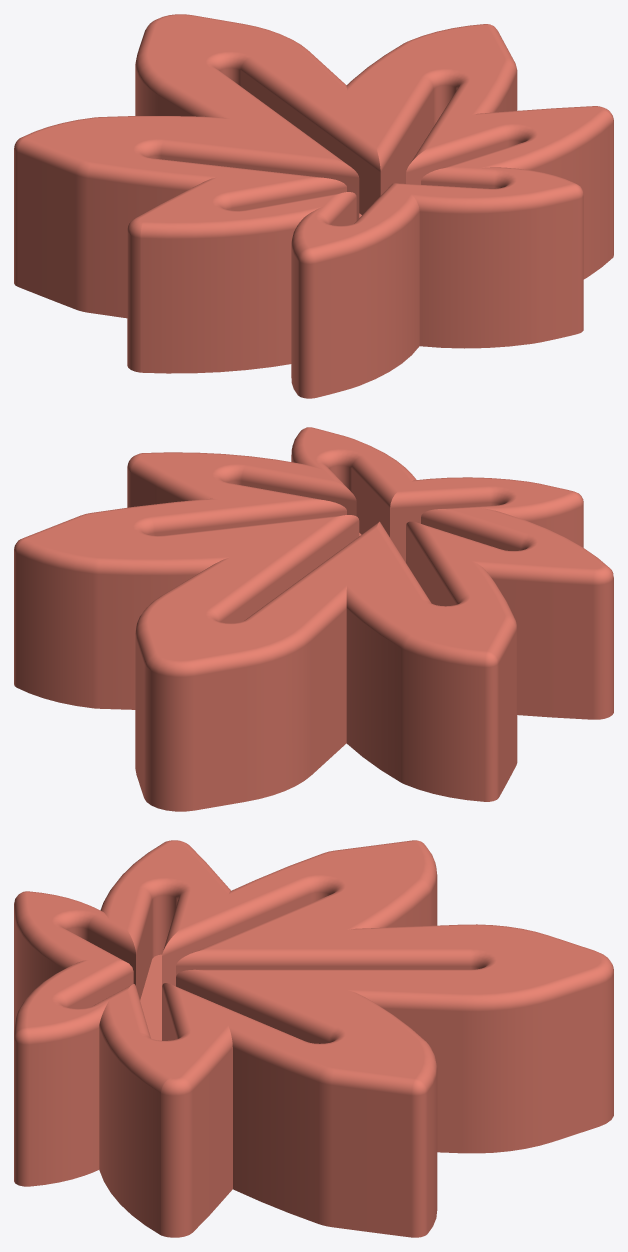
File: momijiAR.glb
3 views of the same model, one above another, from view 1: azimuth 30°, elevation 25°; view 2: azimuth 150°, elevation 25°; view 3: azimuth 270°, elevation 25° (orthographic). The views are drawn at different scales.
Visible parts, largest first — view 1: momijiAR; view 2: momijiAR; view 3: momijiAR.
Part boxes in pixels (x1,y1,x2,y2): momijiAR: [14, 14, 613, 398]; momijiAR: [14, 427, 613, 811]; momijiAR: [14, 840, 613, 1237].
Size of the model in its own units: 0.045 by 0.013 by 0.046.
